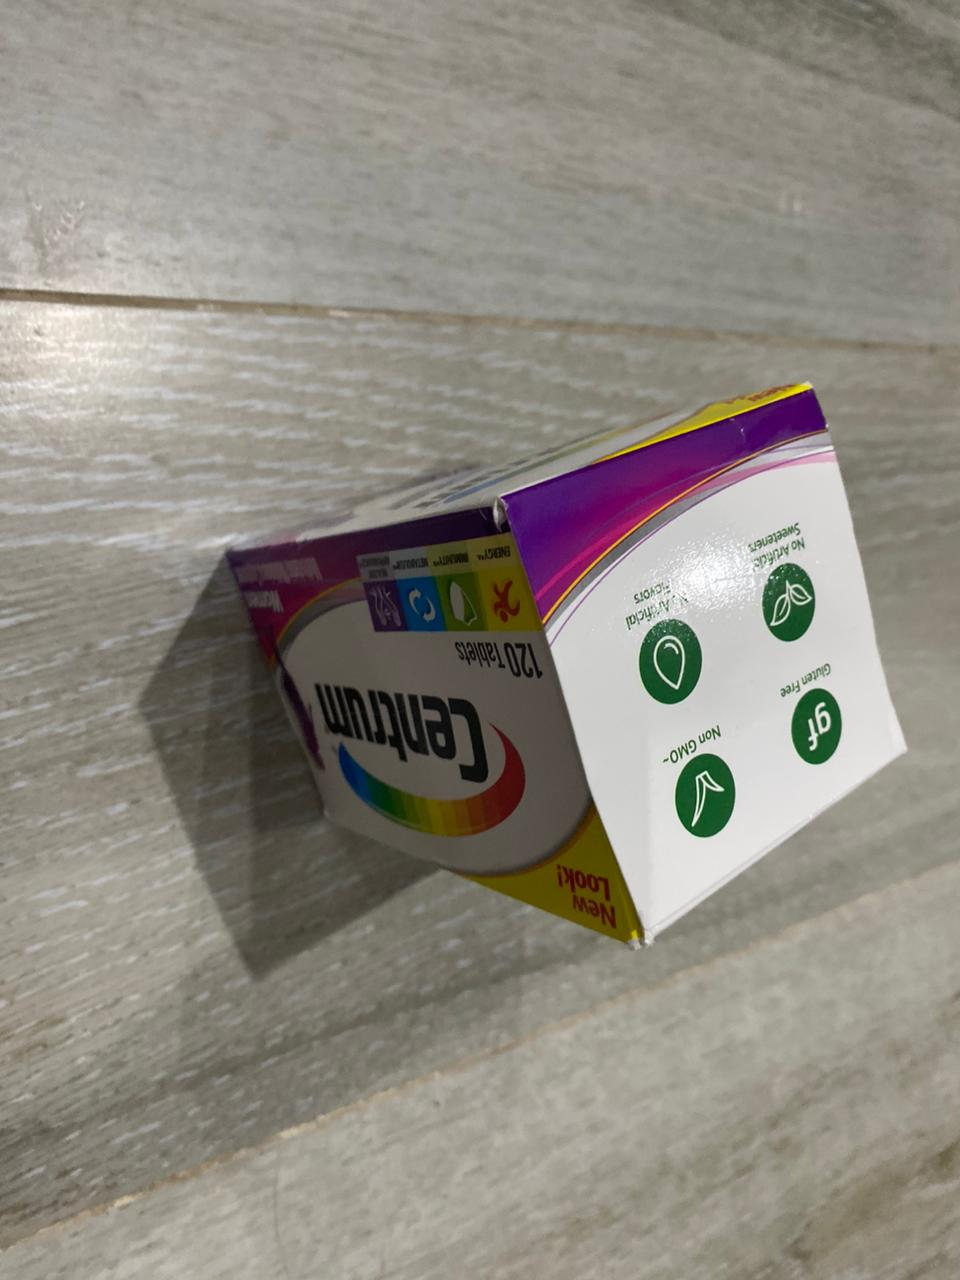Centrum: (225, 375, 913, 961)
